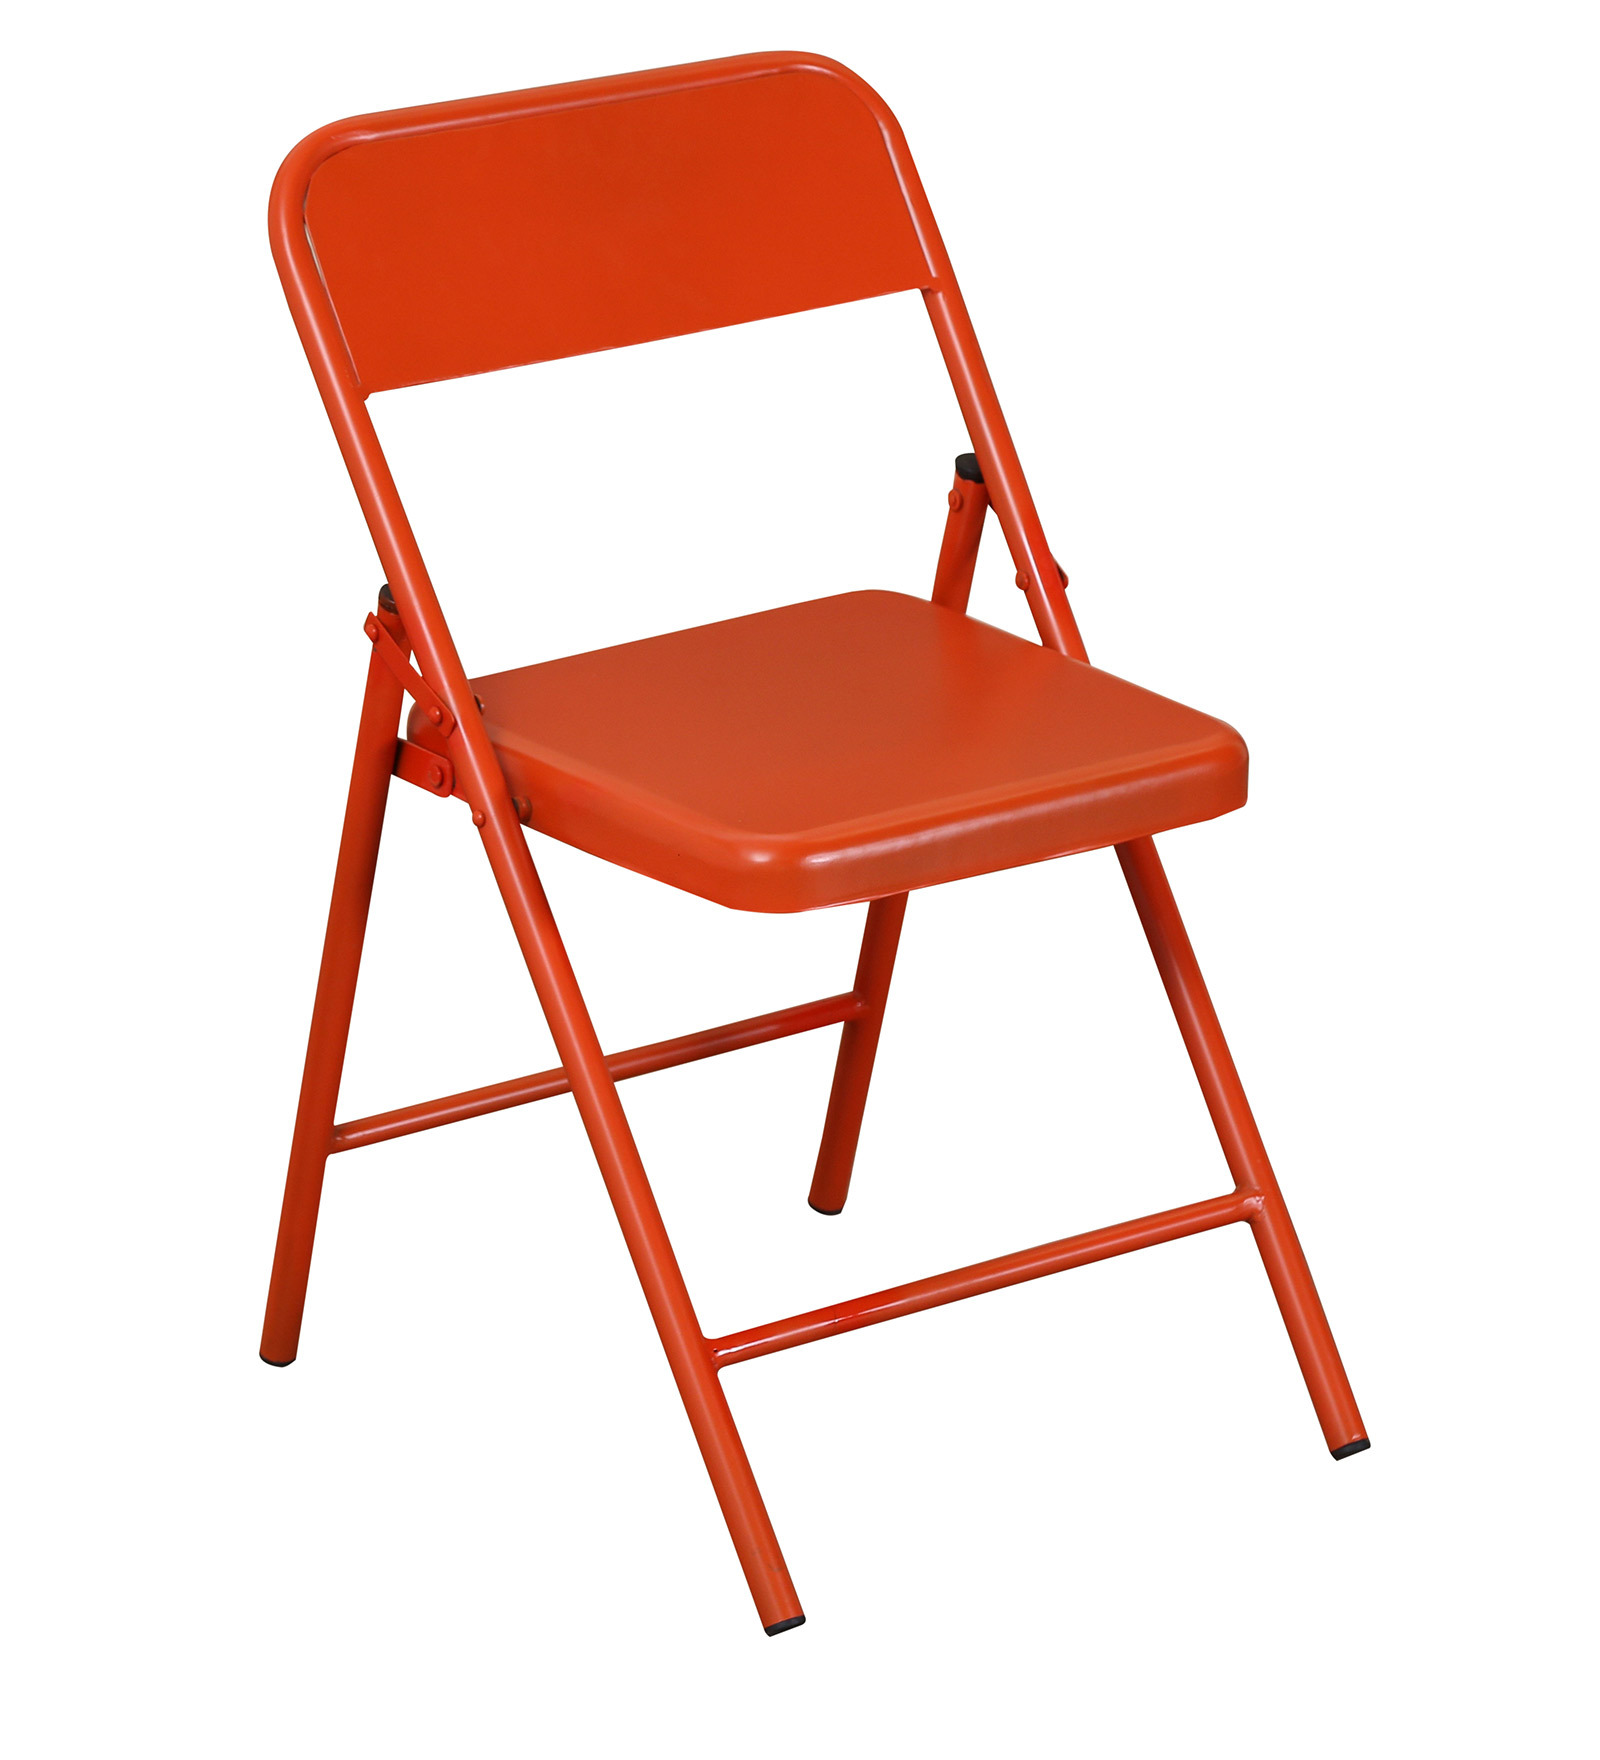Kell Folding Chair (Set of 2) in Orange Color by Bohemiana: (233, 31, 1467, 1656)
